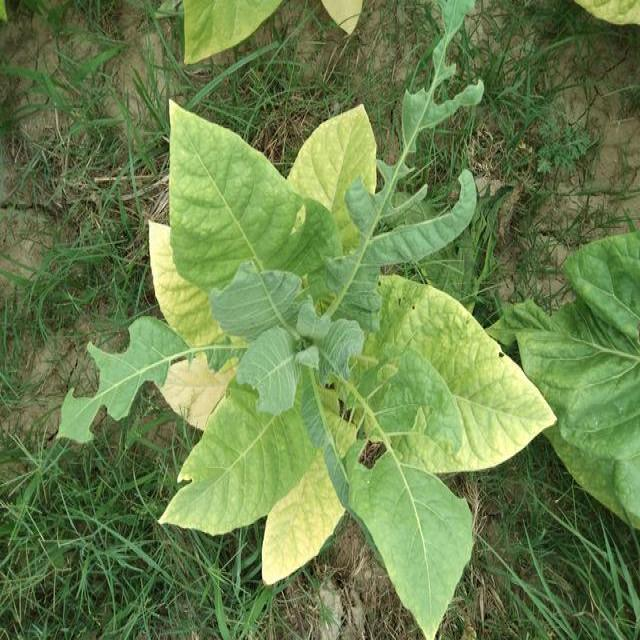crop: (121, 80, 565, 640)
